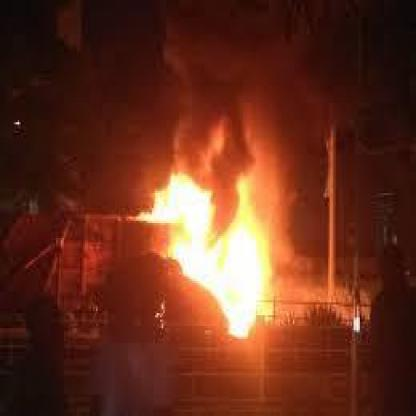fire: (138, 160, 285, 339)
